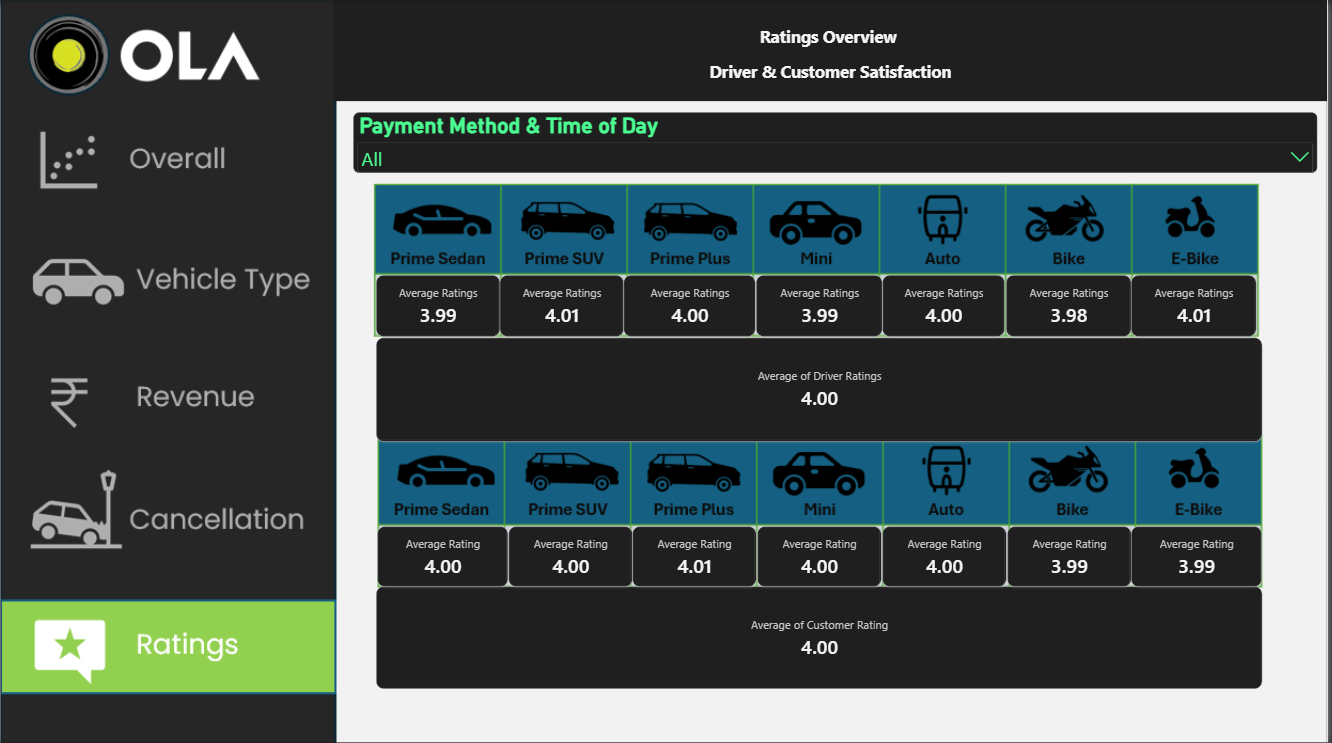

What the dashboard file says about the page in this screenshot:
{"tool":"powerbi","page":{"name":"Ratings","canvas":[1920,1080],"ordinal":4},"visuals":[{"type":"cardVisual","fields":{"Data":["Avg(ola_project ola_rides.Driver_Ratings)"]},"box":[542.4,488.1,1283.1,150.8],"z":0},{"type":"cardVisual","fields":{"Data":["Avg(ola_project ola_rides.Customer_Rating)"]},"box":[542.4,849.2,1283.1,149.2],"z":1},{"type":"cardVisual","fields":{"Data":["Avg(ola_project ola_rides.Driver_Ratings)"]},"box":[542.4,398.3,179.7,89.8],"z":2},{"type":"cardVisual","fields":{"Data":["Avg(ola_project ola_rides.Driver_Ratings)"]},"box":[722,398.3,179.7,89.8],"z":3},{"type":"cardVisual","fields":{"Data":["Avg(ola_project ola_rides.Driver_Ratings)"]},"box":[901.7,398.3,191.5,89.8],"z":4},{"type":"cardVisual","fields":{"Data":["Avg(ola_project ola_rides.Driver_Ratings)"]},"box":[1093.2,398.3,183.1,89.8],"z":5},{"type":"cardVisual","fields":{"Data":["Avg(ola_project ola_rides.Driver_Ratings)"]},"box":[1276.3,398.3,178,89.8],"z":6},{"type":"cardVisual","fields":{"Data":["Avg(ola_project ola_rides.Driver_Ratings)"]},"box":[1454.2,398.3,181.4,89.8],"z":7},{"type":"cardVisual","fields":{"Data":["Avg(ola_project ola_rides.Driver_Ratings)"]},"box":[1635.6,398.3,181.4,89.8],"z":8},{"type":"cardVisual","fields":{"Data":["Avg(ola_project ola_rides.Customer_Rating)"]},"box":[544.1,761,189.8,88.1],"z":9},{"type":"cardVisual","fields":{"Data":["Avg(ola_project ola_rides.Customer_Rating)"]},"box":[733.9,761,179.7,88.1],"z":10},{"type":"cardVisual","fields":{"Data":["Avg(ola_project ola_rides.Customer_Rating)"]},"box":[913.6,761,179.7,88.1],"z":11},{"type":"cardVisual","fields":{"Data":["Avg(ola_project ola_rides.Customer_Rating)"]},"box":[1094.9,761,179.7,88.1],"z":12},{"type":"cardVisual","fields":{"Data":["Avg(ola_project ola_rides.Customer_Rating)"]},"box":[1276.3,761,179.7,88.1],"z":13},{"type":"cardVisual","fields":{"Data":["Avg(ola_project ola_rides.Customer_Rating)"]},"box":[1455.9,761,179.7,88.1],"z":14},{"type":"cardVisual","fields":{"Data":["Avg(ola_project ola_rides.Customer_Rating)"]},"box":[1635.6,761,189.8,88.1],"z":15},{"type":"textbox","box":[481.4,0,1438.7,146.6],"z":16},{"type":"slicer","fields":{"Values":["ola_project ola_rides.Payment_Method","ola_project ola_rides.Time_of_Day"]},"box":[510.3,162.9,1395.2,86.9],"z":17}]}

Visuals, with their boxes on the page's 1920x1080 design canvas (x1, y1, x2, y2). These are canvas units, not pixel positions in the 1332x743 screenshot, which may show the page scaled, cropped or inside an application window:
cardVisual - Avg(ola_project ola_rides.Driver_Ratings): <bbox>542, 488, 1826, 639</bbox>
cardVisual - Avg(ola_project ola_rides.Customer_Rating): <bbox>542, 849, 1826, 998</bbox>
cardVisual - Avg(ola_project ola_rides.Driver_Ratings): <bbox>542, 398, 722, 488</bbox>
cardVisual - Avg(ola_project ola_rides.Driver_Ratings): <bbox>722, 398, 902, 488</bbox>
cardVisual - Avg(ola_project ola_rides.Driver_Ratings): <bbox>902, 398, 1093, 488</bbox>
cardVisual - Avg(ola_project ola_rides.Driver_Ratings): <bbox>1093, 398, 1276, 488</bbox>
cardVisual - Avg(ola_project ola_rides.Driver_Ratings): <bbox>1276, 398, 1454, 488</bbox>
cardVisual - Avg(ola_project ola_rides.Driver_Ratings): <bbox>1454, 398, 1636, 488</bbox>
cardVisual - Avg(ola_project ola_rides.Driver_Ratings): <bbox>1636, 398, 1817, 488</bbox>
cardVisual - Avg(ola_project ola_rides.Customer_Rating): <bbox>544, 761, 734, 849</bbox>
cardVisual - Avg(ola_project ola_rides.Customer_Rating): <bbox>734, 761, 914, 849</bbox>
cardVisual - Avg(ola_project ola_rides.Customer_Rating): <bbox>914, 761, 1093, 849</bbox>
cardVisual - Avg(ola_project ola_rides.Customer_Rating): <bbox>1095, 761, 1275, 849</bbox>
cardVisual - Avg(ola_project ola_rides.Customer_Rating): <bbox>1276, 761, 1456, 849</bbox>
cardVisual - Avg(ola_project ola_rides.Customer_Rating): <bbox>1456, 761, 1636, 849</bbox>
cardVisual - Avg(ola_project ola_rides.Customer_Rating): <bbox>1636, 761, 1825, 849</bbox>
textbox: <bbox>481, 0, 1920, 147</bbox>
slicer - ola_project ola_rides.Payment_Method x ola_project ola_rides.Time_of_Day: <bbox>510, 163, 1906, 250</bbox>
